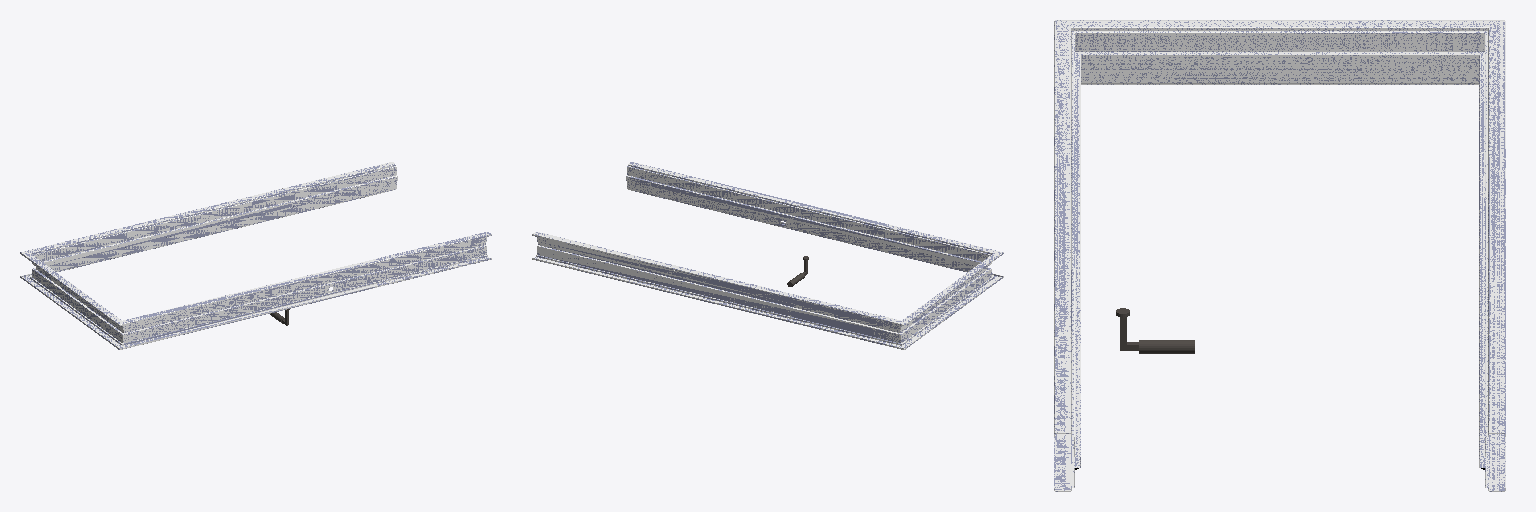
URDF robot description (right-pull-door):
<?xml version="1.0" ?>
<robot name="right-pull-door">
	<link name="base"/>
	<link name="link_0">
		<visual name="out-frame">
			<origin xyz="0 0 0"/>
			<geometry>
				<mesh filename="texture_dae/frame.dae" scale="0.8636458503017361 0.8636458503017361 0.8636458503017361"/>
			</geometry>
		</visual>
		<collision>
			<origin xyz="0 0 0"/>
			<geometry>
				<mesh filename="texture_dae/frame.dae" scale="0.8636458503017361 0.8636458503017361 0.8636458503017361"/>
			</geometry>
		</collision>
	</link>
	<joint name="joint_0" type="fixed">
		<origin rpy="1.570796326794897 0 -1.570796326794897" xyz="0 0 0"/>
		<child link="link_0"/>
		<parent link="base"/>
	</joint>
	<link name="link_1">
		<visual name="surf-board">
			<origin xyz="0.3808653180019082 -0.8992131637015617 0"/>
			<geometry>
				<mesh filename="texture_dae/board.dae" scale="0.8636458503017361 0.8636458503017361 0.8636458503017361"/>
			</geometry>
		</visual>
		<collision>
			<origin xyz="0.3808653180019082 -0.8992131637015617 0"/>
			<geometry>
				<mesh filename="texture_dae/board.dae" scale="0.8636458503017361 0.8636458503017361 0.8636458503017361"/>
			</geometry>
		</collision>
	</link>
	<joint name="joint_1" type="revolute">
		<origin xyz="-0.3808653180019082 0.8992131637015617 0"/>
		<axis xyz="0 -1 0"/>
		<child link="link_1"/>
		<parent link="link_0"/>
		<limit lower="0" upper="1.5079644737231006"/>
	</joint>
	<link name="link_2">
		<visual name="handle">
			<origin xyz="0 0 0"/>
			<geometry>
				<mesh filename="texture_dae/9960034.dae" scale="1.2040434243747393 1.2040434243747393 1.2040434243747393"/>
			</geometry>
		</visual>
		<collision>
			<origin xyz="0 0 0"/>
			<geometry>
				<mesh filename="texture_dae/9960034.dae" scale="1.2040434243747393 1.2040434243747393 1.2040434243747393"/>
			</geometry>
		</collision>
	</link>
	<joint name="joint_2" type="revolute">
		<origin xyz="0.6822970051326513 -1.0289645535898642 0.019948035520088774"/>
		<child link="link_2"/>
		<parent link="link_1"/>
		<axis xyz="0 0 1"/>
		<limit lower="0" upper="1.5079644737231006"/>
	</joint>
</robot>

--- What the picture shows (computed from the rendered views, not written in the file) ---
The picture shows the robot from 3 angles, left to right: view 1: azimuth 30°, elevation 25°; view 2: azimuth 150°, elevation 25°; view 3: azimuth 270°, elevation 25°; orthographic projection.
Robot: right-pull-door — 4 links, 3 joints (2 revolute, 1 fixed); root link base; default pose: all joints at 0.
Visible links, largest first — view 1: link_0; view 2: link_0; view 3: link_0, link_2.
Link boxes in pixels (bbox=[...]): link_0: bbox=[20, 162, 491, 349]; link_0: bbox=[532, 162, 1003, 349]; link_0: bbox=[1054, 20, 1505, 491]; link_2: bbox=[1116, 308, 1194, 353].
Bounding box of the posed robot: 1.88 × 0.8686 × 0.2756 m (x, y, z).
Meshes: 3 distinct files referenced, 2 mesh visuals loaded (2 Collada DAE); not drawn: 1 (reference not matched to a file when rendering).
